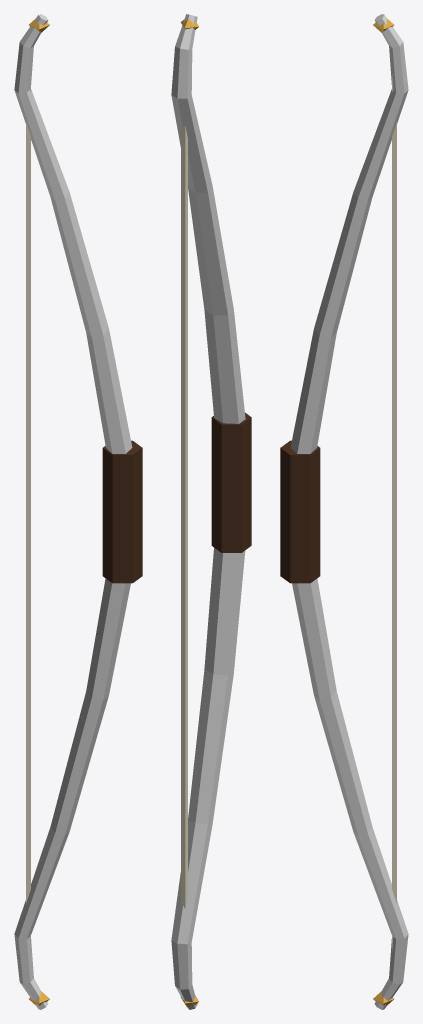
File: weapon_bow.glb
3 views of the same model, side by side, from view 1: azimuth 90°, elevation 25°; view 2: azimuth 150°, elevation 25°; view 3: azimuth 270°, elevation 25° (orthographic).
Visible parts, largest first — view 1: weapon_bow; view 2: weapon_bow; view 3: weapon_bow.
Part boxes in pixels (box(x1,y1,x2,y2)): weapon_bow: box(14, 14, 142, 1009); weapon_bow: box(171, 14, 251, 1009); weapon_bow: box(280, 14, 408, 1009).
Size of the model in its own units: 0.0416 by 1.32 by 0.1539.
